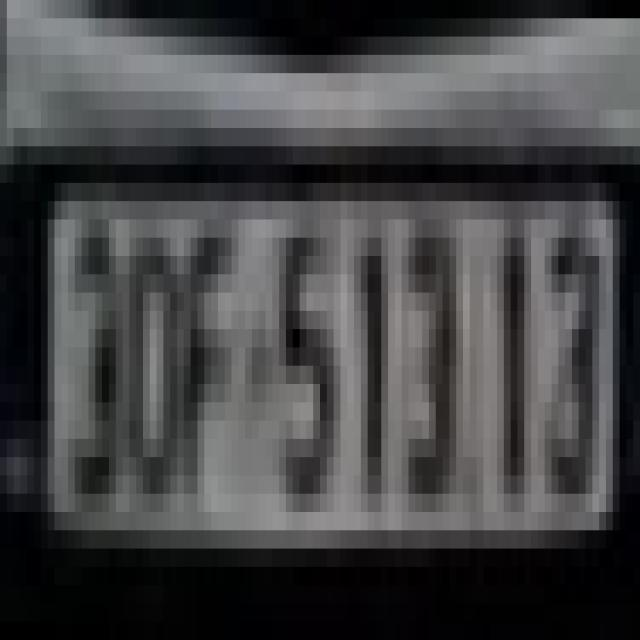0: (123, 219, 177, 494)
1: (347, 219, 395, 494), (490, 210, 531, 521)
3: (398, 201, 466, 512), (58, 210, 119, 521), (545, 219, 606, 494)
5: (279, 219, 341, 512)
F: (180, 210, 242, 503)
